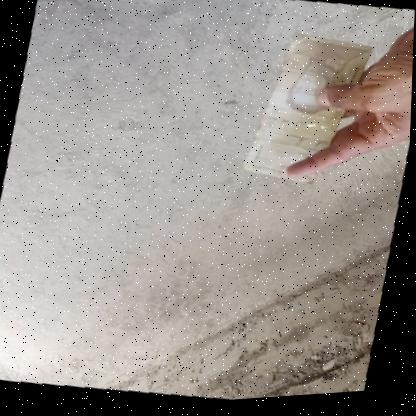five-front-vef: (240, 28, 375, 199)
